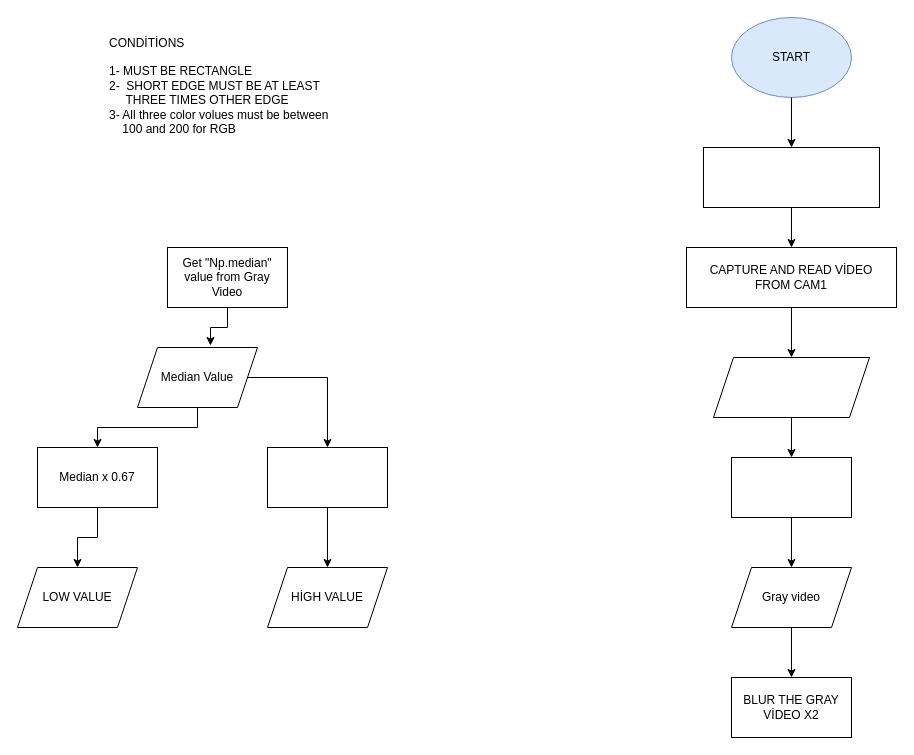
The diagram is 914 pixels wide and 755 high, and some of its shapes have lost their labels. Here are the shapes that lost their labels. From the top down, the centre of each, then its label:
[791,177]: CONNECT TO CAM1
[791,387]: VİDEO NAME = FRAME
[327,477]: Median x 1.33
[791,487]: CONVERT THE FRAME TO GRAY SCALE
